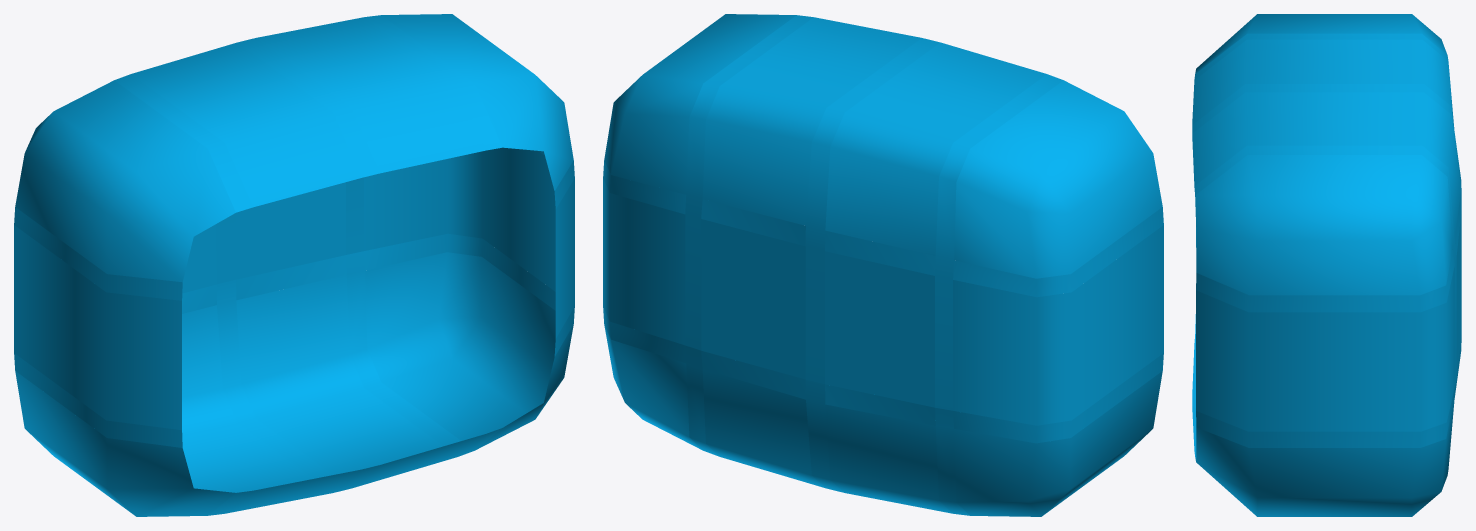
Rendered from CargoBagA.FBX.
3 views of the same model, side by side, from view 1: azimuth 30°, elevation 25°; view 2: azimuth 150°, elevation 25°; view 3: azimuth 270°, elevation 25° (orthographic). The views are drawn at different scales.
Visible parts, largest first — view 1: CargoBagA; view 2: CargoBagA; view 3: CargoBagA.
Boxes of the visible parts, x1,y1,x2,y2 form: CargoBagA: [14, 14, 574, 516]; CargoBagA: [603, 14, 1163, 516]; CargoBagA: [1192, 14, 1461, 516].
Size of the model in its own units: 0.4789 by 0.3717 by 0.256.
1 material, 1 textured.
